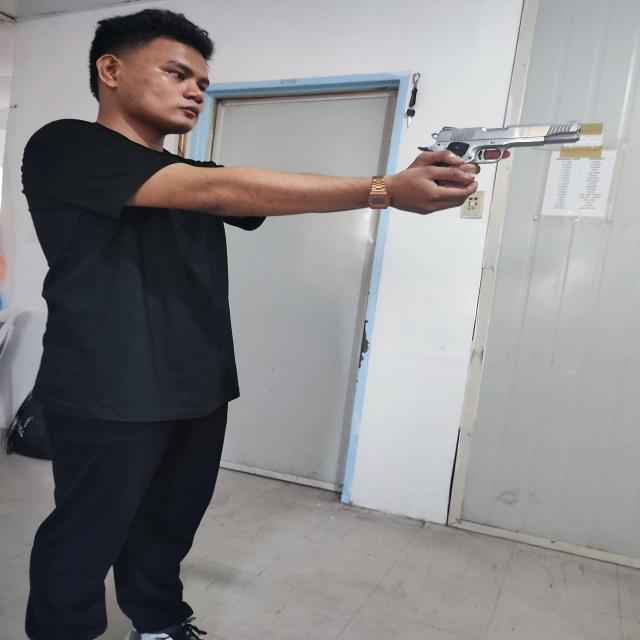pistol: (418, 120, 581, 165)
